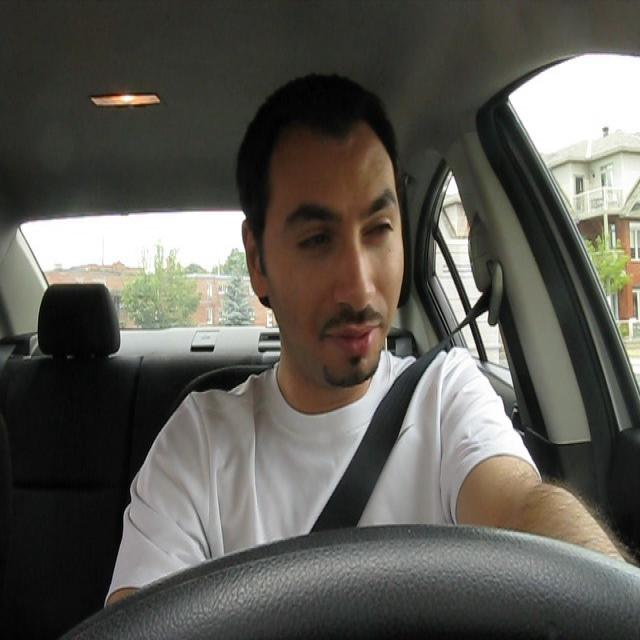Eyeclosed: (298, 222, 332, 260), (362, 214, 394, 246)
